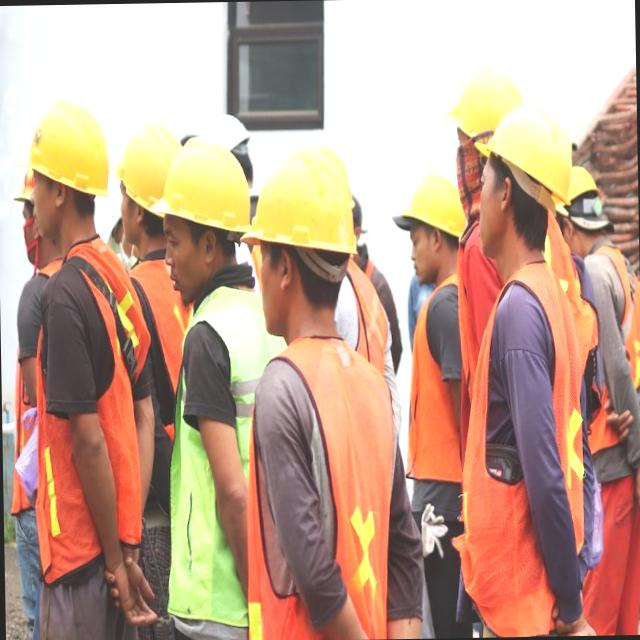helmet: (237, 139, 365, 267), (468, 96, 578, 213), (146, 133, 250, 244), (18, 98, 112, 204), (112, 115, 183, 216), (444, 64, 524, 151), (395, 164, 462, 246), (558, 165, 606, 220)
vest: (243, 342, 398, 640), (469, 264, 584, 630), (29, 243, 144, 594), (154, 280, 254, 627), (408, 270, 462, 482), (596, 246, 638, 446)
